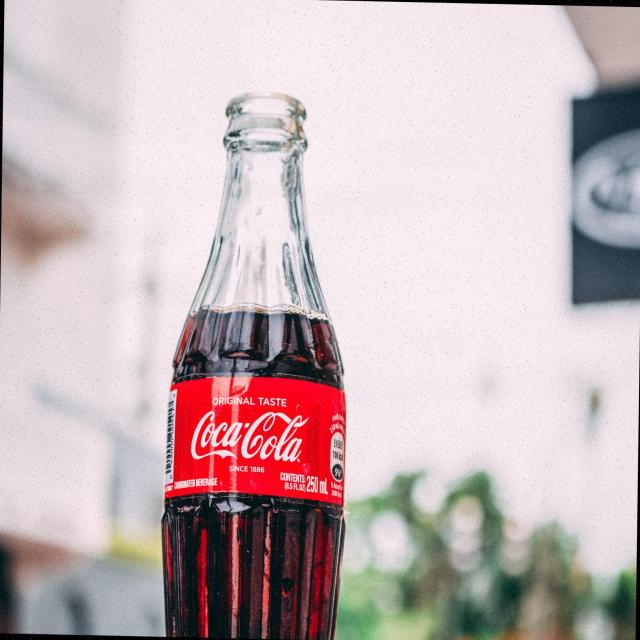coca-cola: (190, 406, 308, 466)
